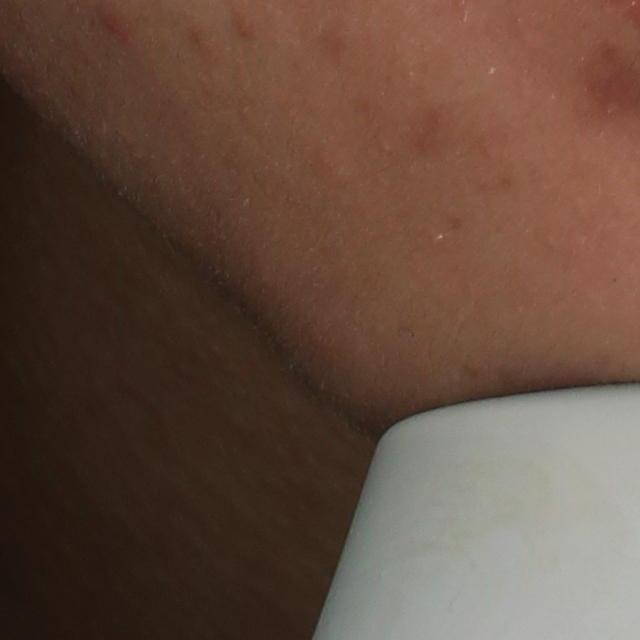papule: (96, 4, 131, 38)
